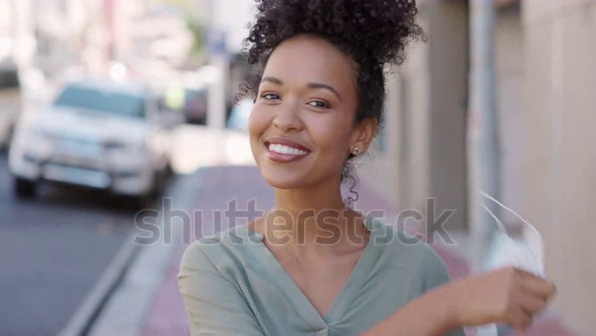No Mask: (242, 128, 353, 193)
